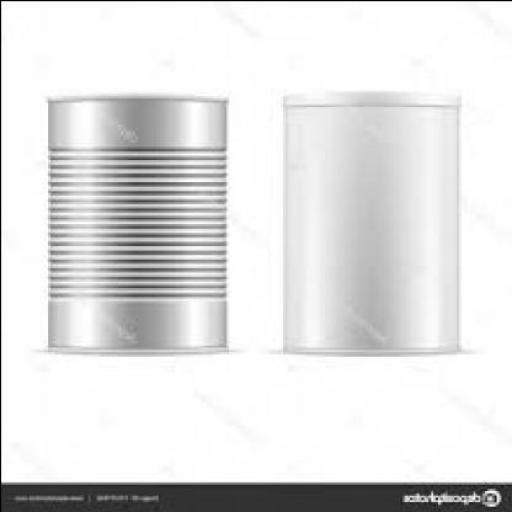metal: (284, 85, 466, 349), (49, 95, 230, 348)
